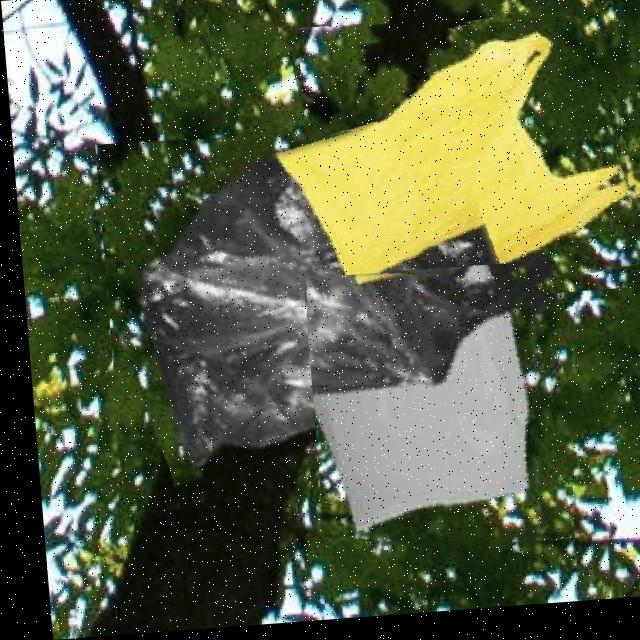litter: (92, 120, 531, 471), (295, 12, 638, 314), (297, 267, 563, 566)
